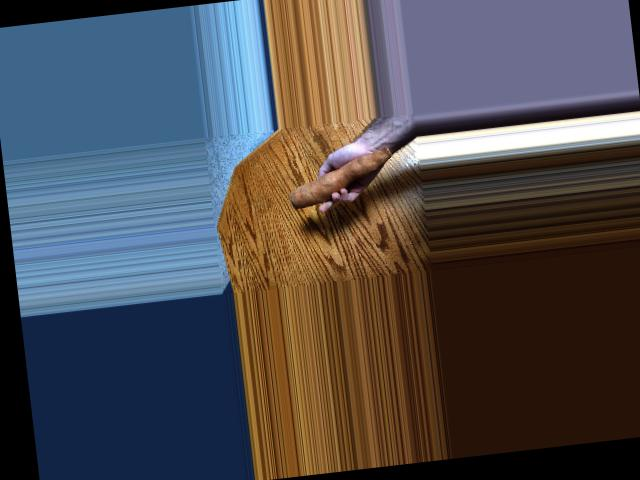sweet_potato: (288, 144, 396, 202)
